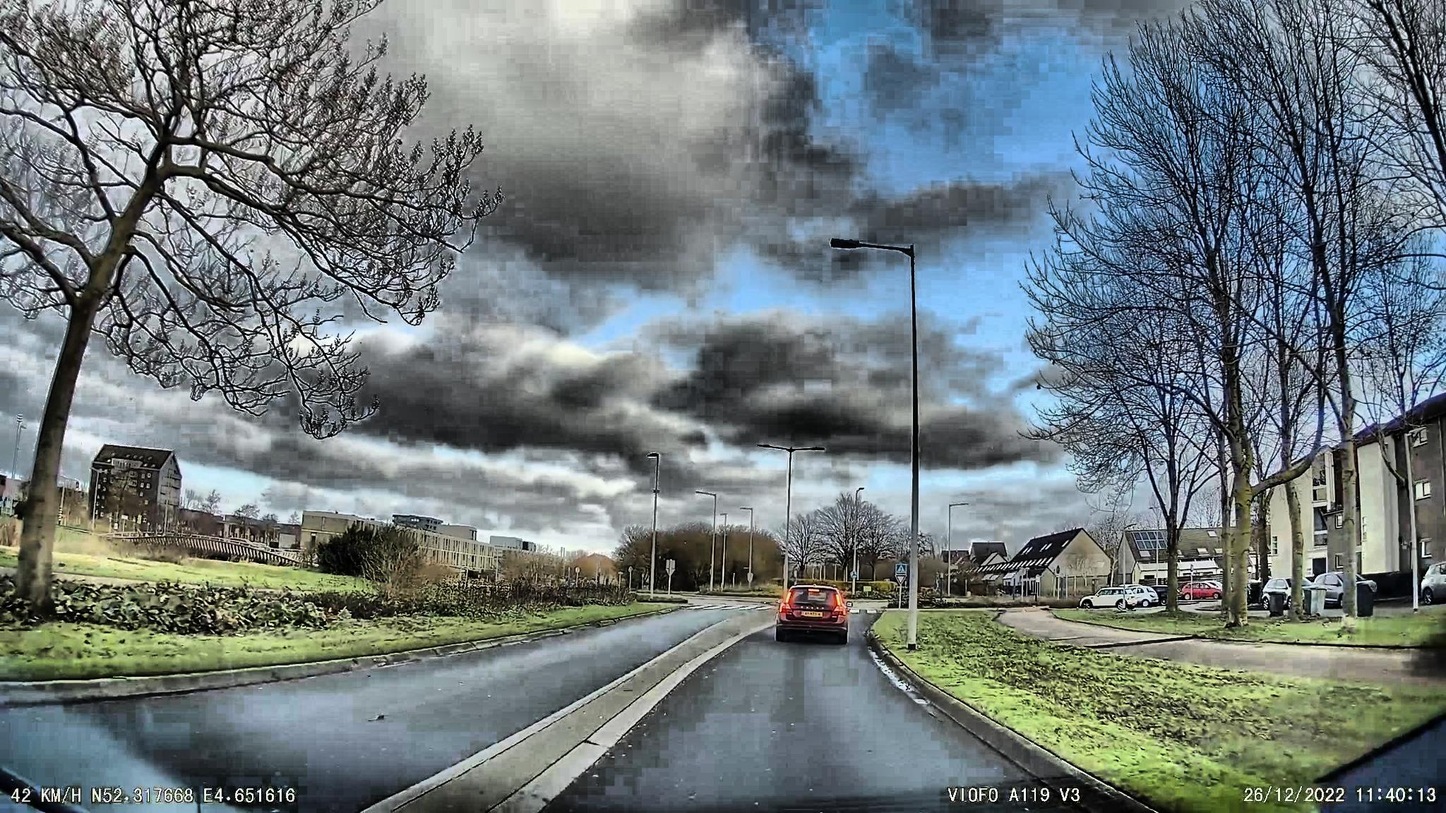Roads: (0, 609, 1163, 813)
